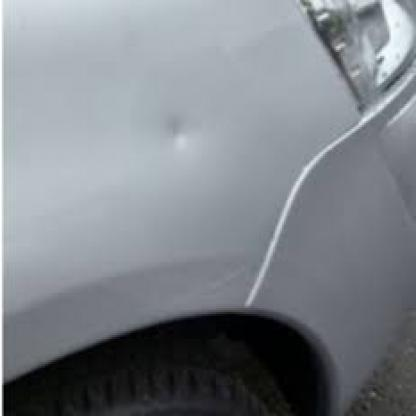dent: (158, 104, 204, 160)
